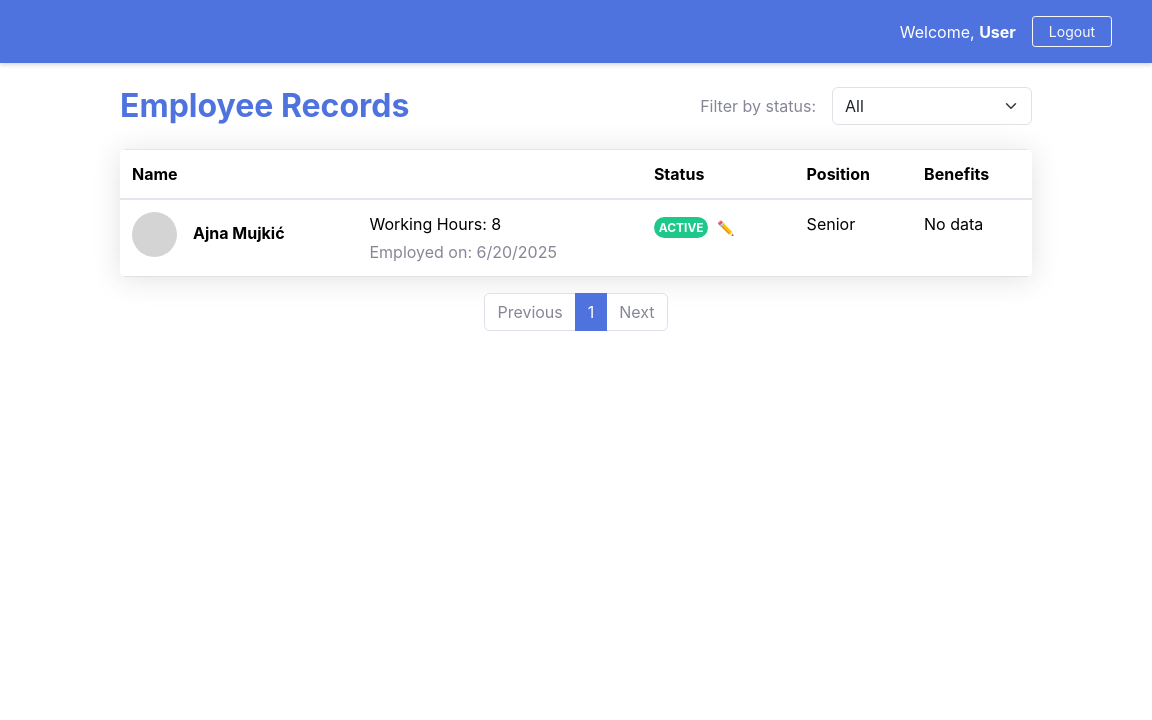
Test: Records › opens and closes edit modal
Click the button "✏️".
click(726, 228)  # box [708,212,743,243]
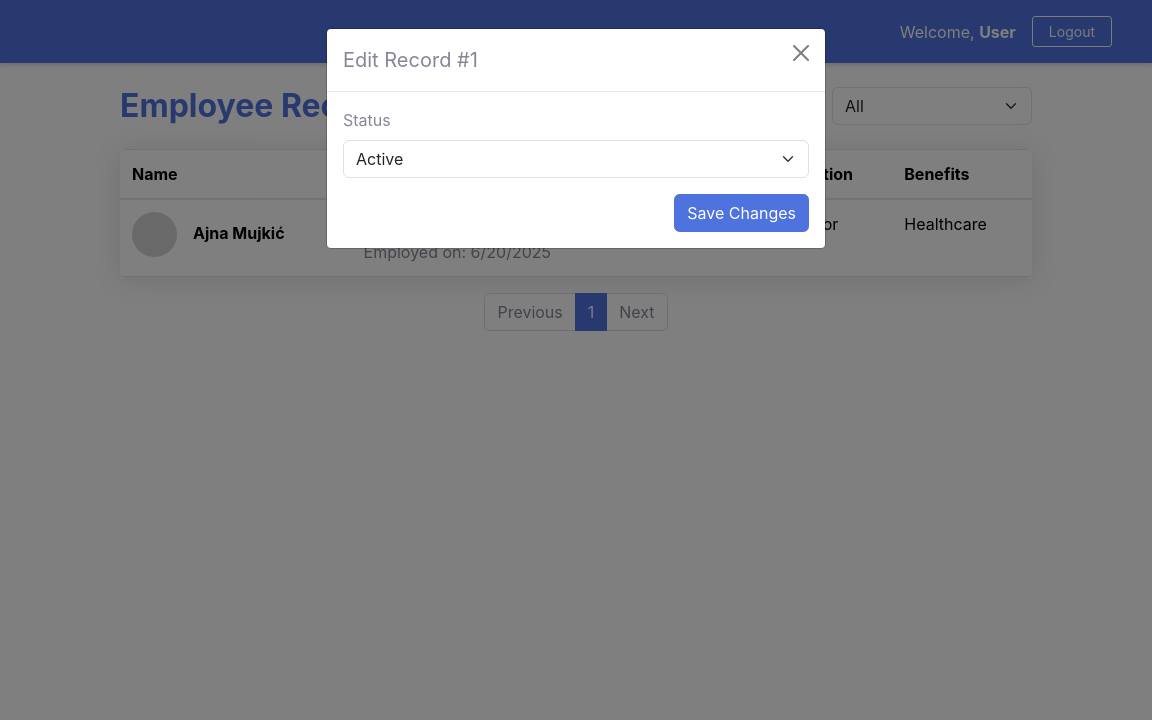
Expected: the heading "Edit Record #1" is shown, [343,45,478,75]
Click the 1st button.
click(801, 53)  # box [785,37,817,69]
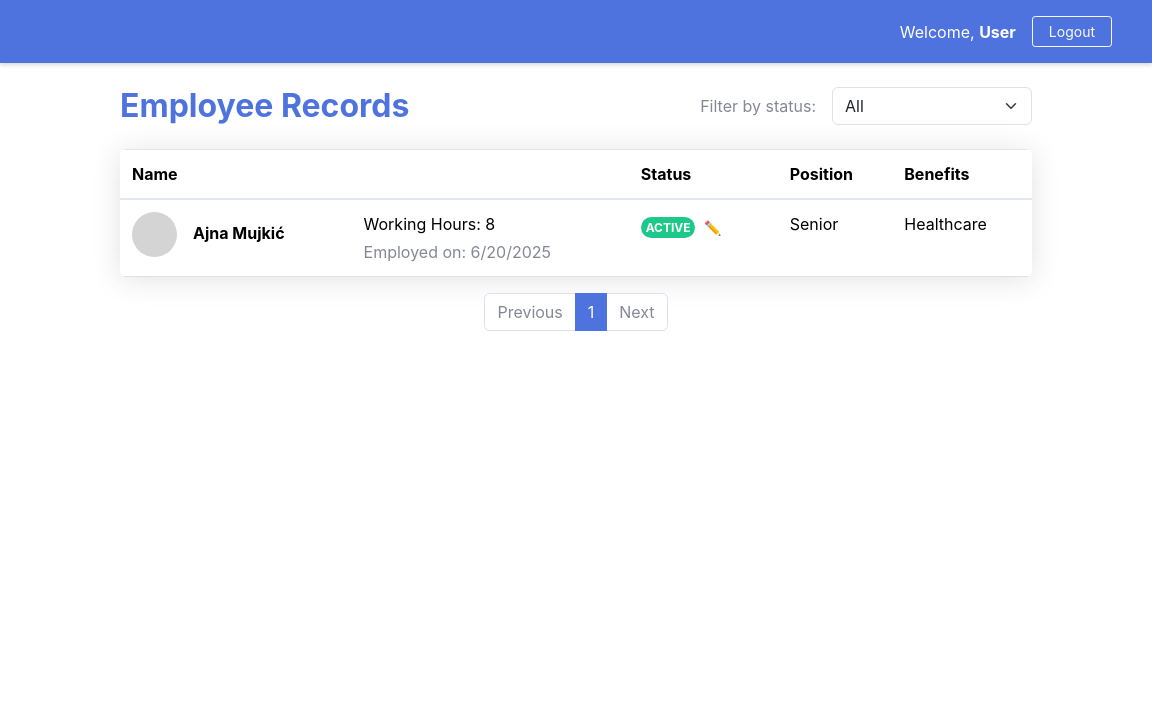
Expected: the heading "Edit Record" is gone
